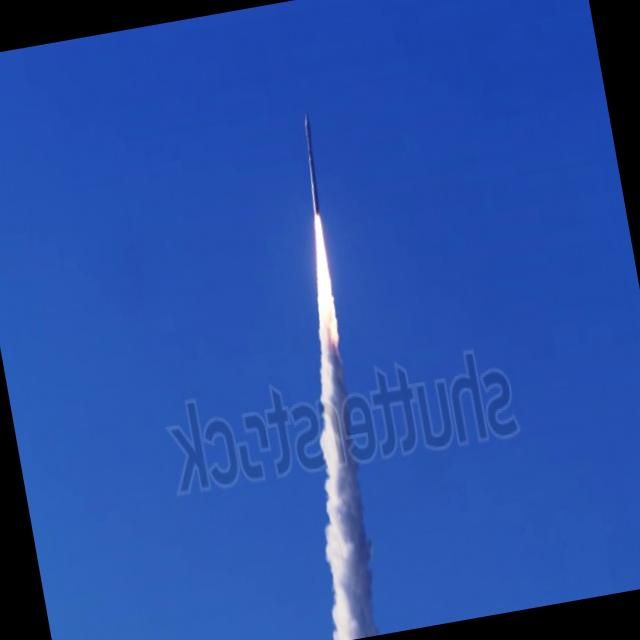rocket: (263, 112, 371, 471)
